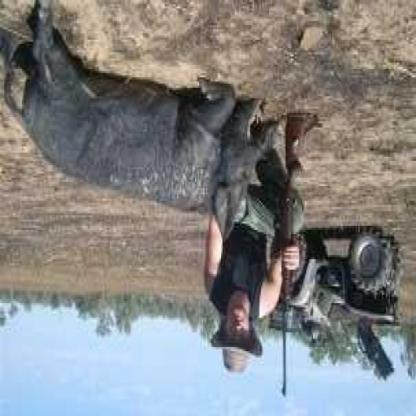boar: (11, 1, 269, 240)
